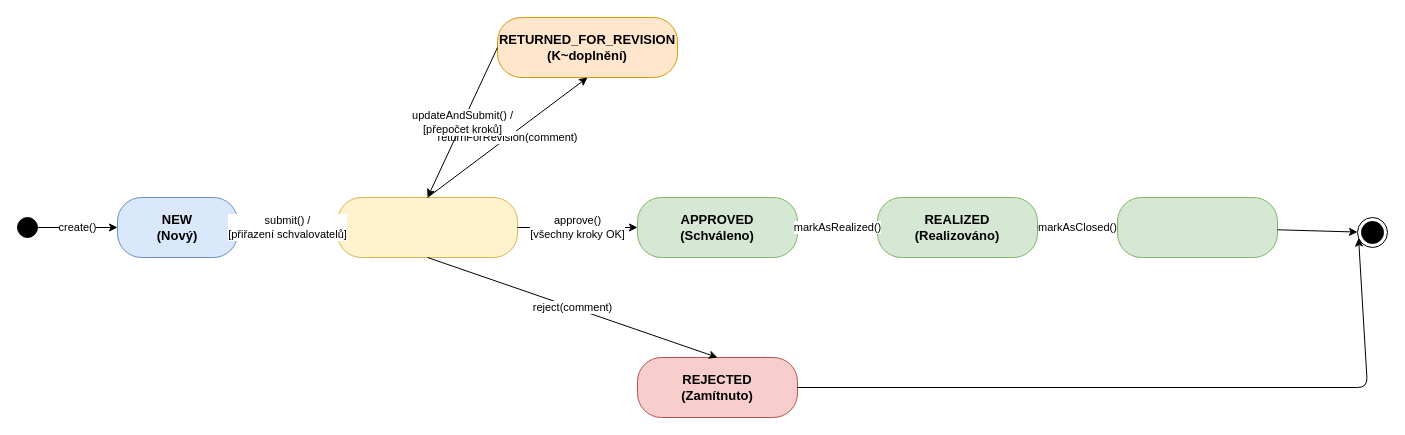
This 1405x435 diagram has some shape labels left out. Here are the shapes that lost their labels. From the top down, the box of each, then its label:
(336, 196, 518, 258): PENDING_APPROVAL (Čeká na schválení)
(1116, 196, 1278, 258): CLOSED (Uzavřeno)
